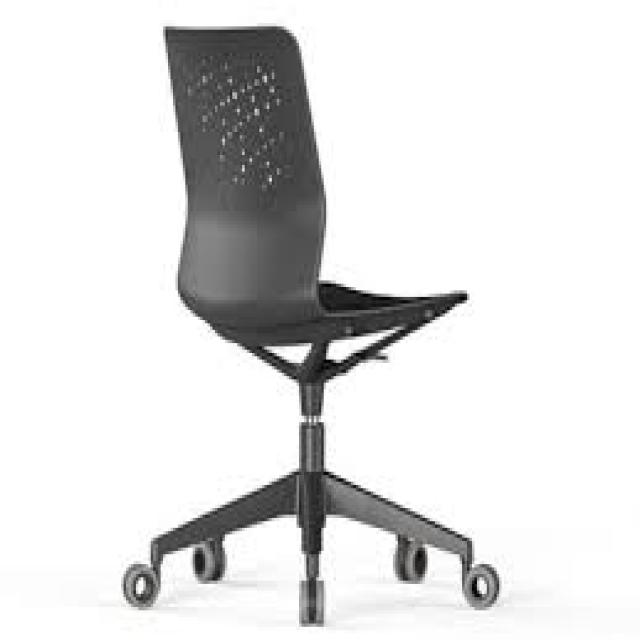chair: (68, 5, 535, 640)
